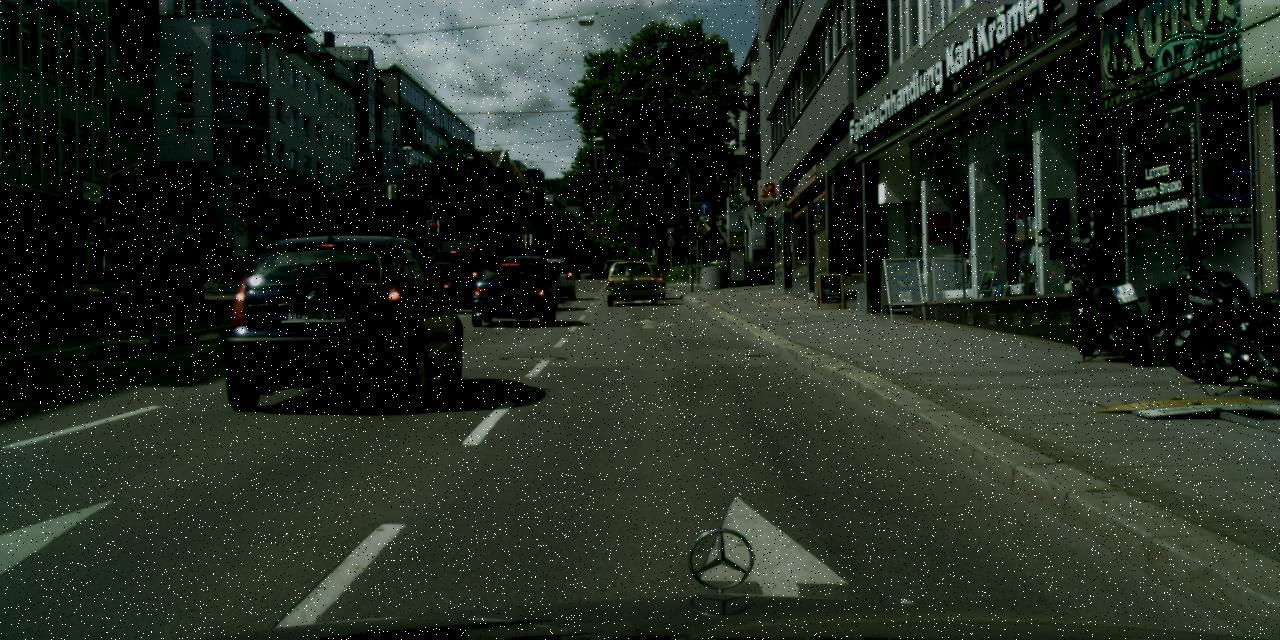ped: (178, 252, 195, 292), (128, 254, 148, 277), (681, 254, 690, 277), (602, 262, 608, 278)
